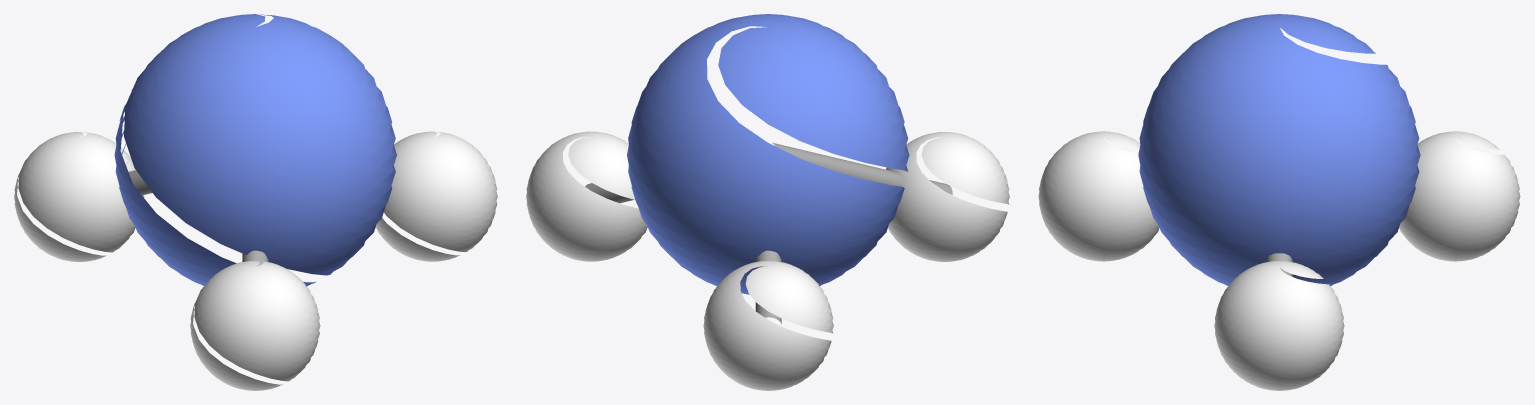
3 views of the same model, side by side, from view 1: azimuth 30°, elevation 25°; view 2: azimuth 150°, elevation 25°; view 3: azimuth 270°, elevation 25° (orthographic).
Bounding box in the file's own units: 2.01 × 1.38 × 2.22.
